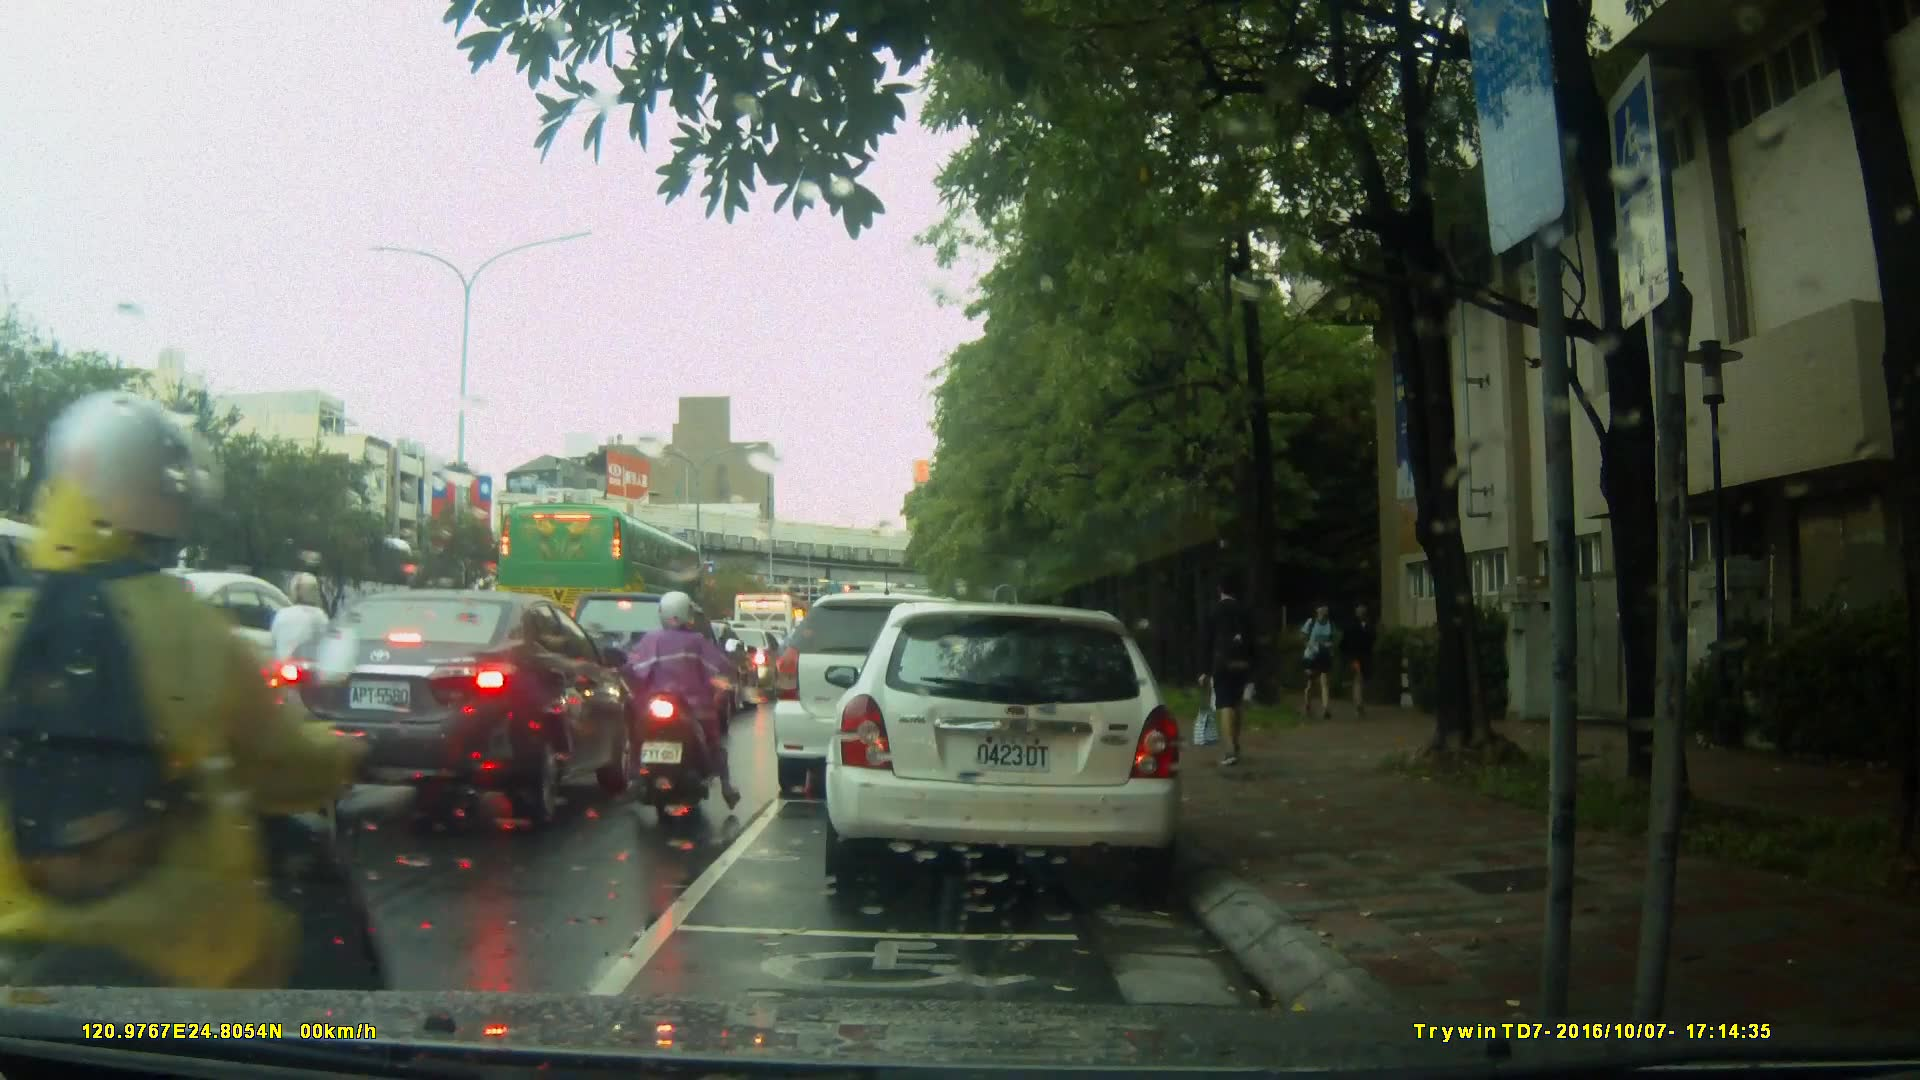pedestrian: (1195, 569, 1268, 769), (1300, 591, 1354, 721), (1336, 596, 1376, 714)
rider: (1, 394, 371, 1079), (636, 587, 737, 823), (776, 612, 814, 700)
vehicle: (1, 520, 340, 986), (831, 592, 1196, 897), (261, 586, 637, 827), (25, 563, 335, 761), (770, 592, 999, 799), (542, 572, 751, 751), (495, 502, 707, 644)
